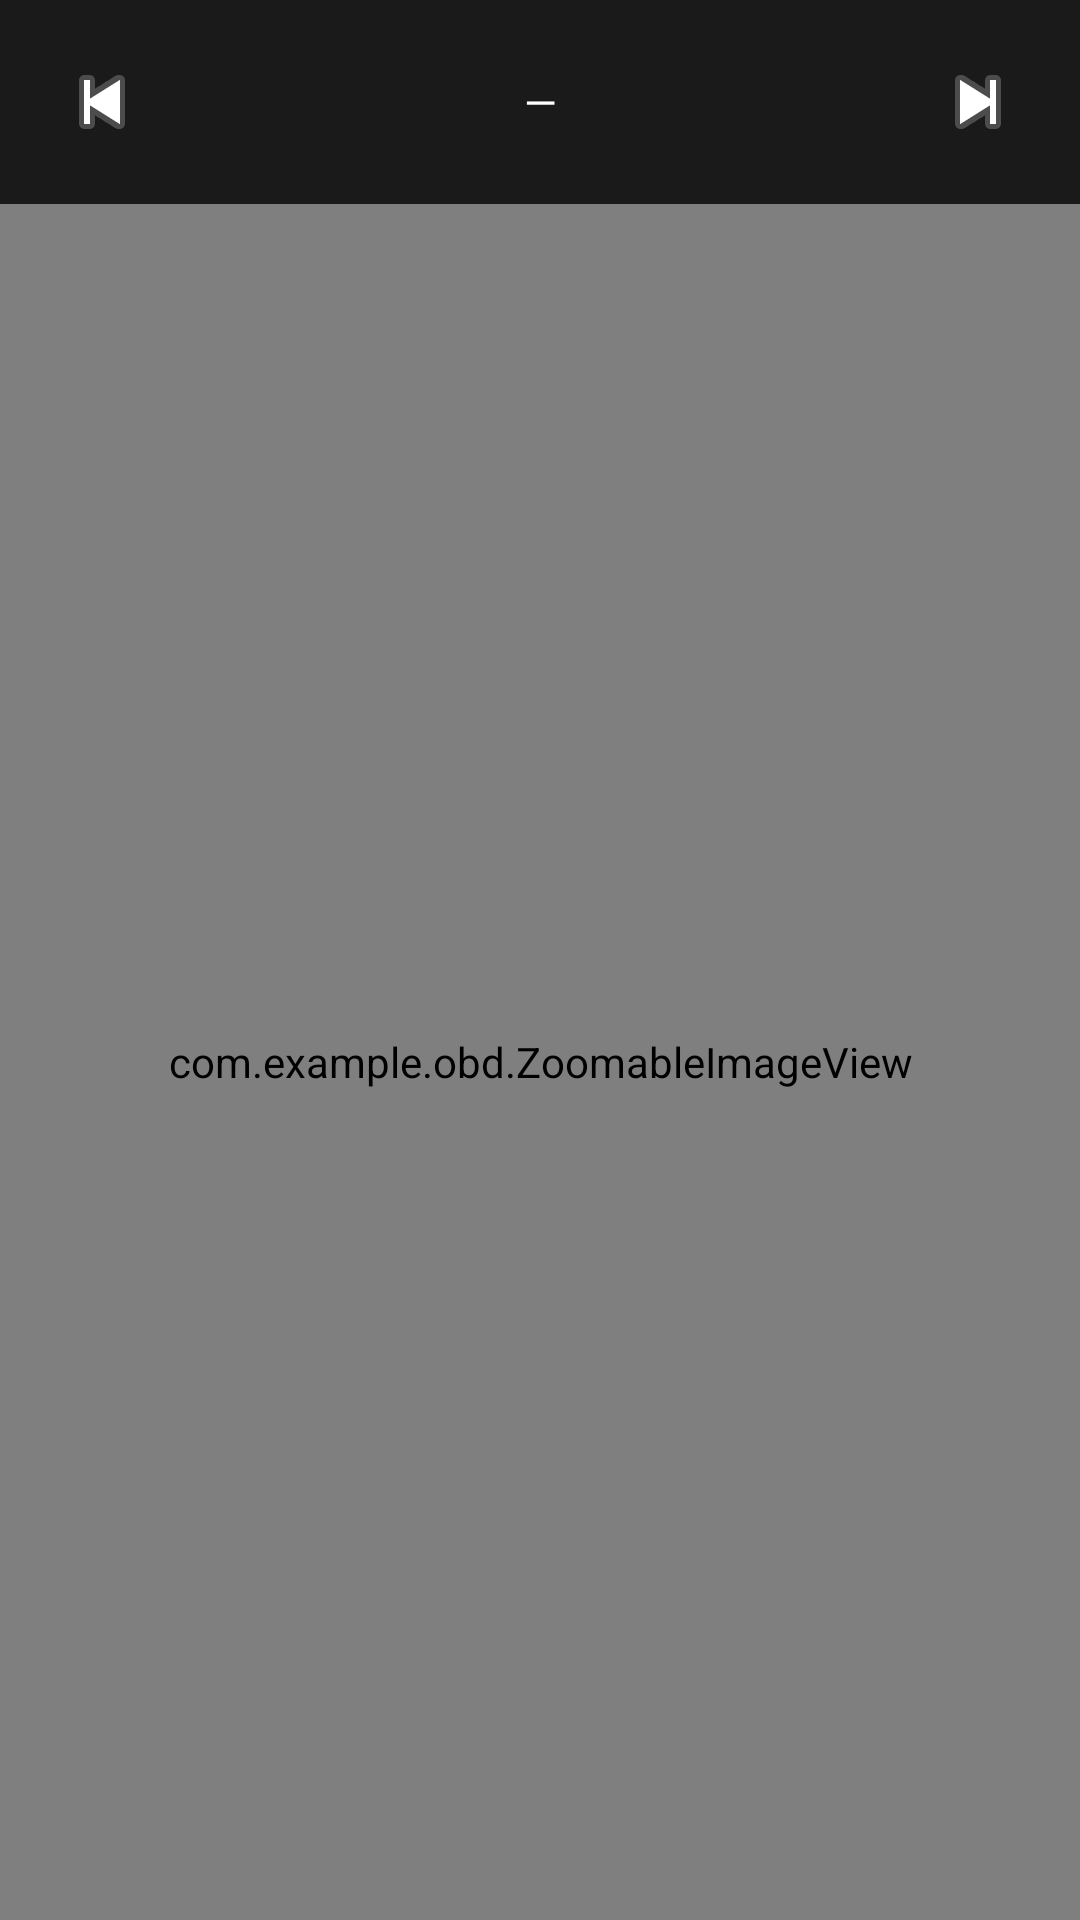

Named icons in this screenshot (1080x1920) and their centers, (x=x, y=y):
Next page: (x=978, y=102)
Previous page: (x=102, y=102)
